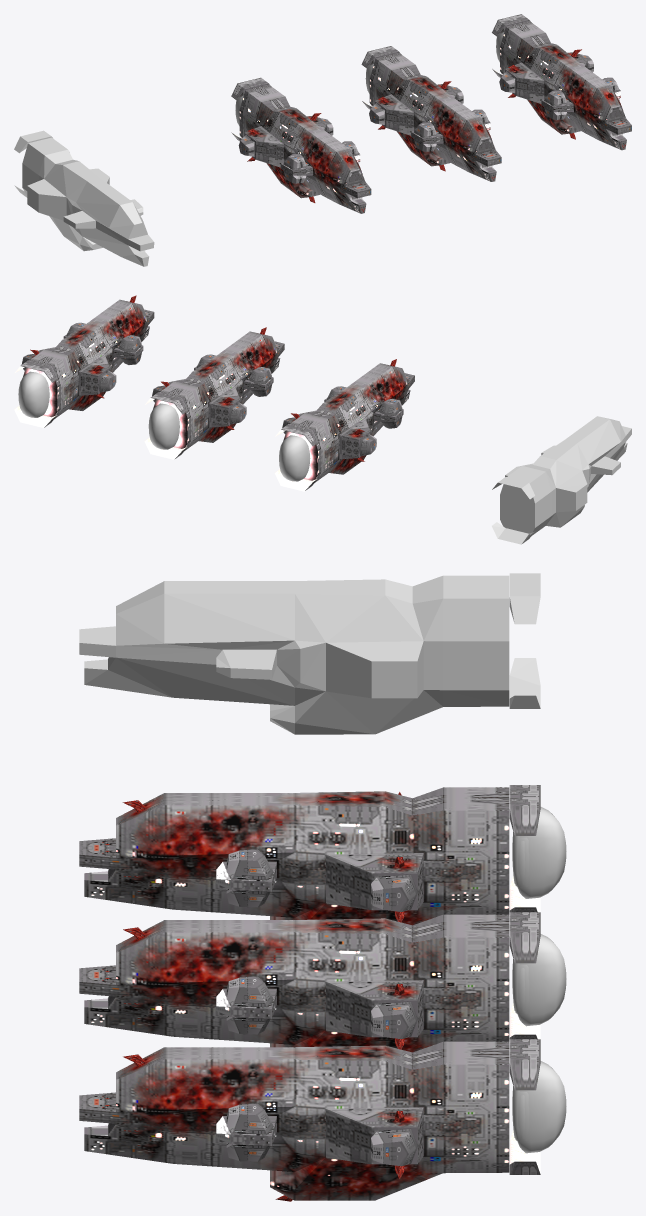
Rendered from hgn_bst_tdn_heavycruiser.dae.
The picture shows the model from 3 angles, top to bottom: view 1: azimuth 30°, elevation 25°; view 2: azimuth 150°, elevation 25°; view 3: azimuth 270°, elevation 25°; orthographic projection. The views are drawn at different scales.
Parts seen in each view (by area): view 1: COL[Root], MULT[root_mesh]_LOD[0], MULT[root_mesh]_LOD[1], MULT[root_mesh]_LOD[2]; view 2: COL[Root], MULT[root_mesh]_LOD[2], MULT[root_mesh]_LOD[1], MULT[root_mesh]_LOD[0], GLOW[EngineGlow3_LOD0]_LOD[0], GLOW[EngineGlow9_LOD0]_LOD[2], GLOW[EngineGlow6_LOD0]_LOD[1]; view 3: COL[Root], MULT[root_mesh]_LOD[2], MULT[root_mesh]_LOD[1], MULT[root_mesh]_LOD[0], GLOW[EngineGlow3_LOD0]_LOD[0], GLOW[EngineGlow9_LOD0]_LOD[2], GLOW[EngineGlow6_LOD0]_LOD[1], MULT[rightturret3]_LOD[1], MULT[rightturret3]_LOD[0], MULT[rightturret3]_LOD[2], MULT[rightturret1]_LOD[1], MULT[rightturret1]_LOD[2] (+1 smaller).
Part boxes in pixels (x1,y1,x2,y2): COL[Root]: (14, 130, 154, 266); MULT[root_mesh]_LOD[0]: (231, 77, 371, 213); MULT[root_mesh]_LOD[1]: (361, 46, 501, 181); MULT[root_mesh]_LOD[2]: (492, 14, 631, 150); COL[Root]: (492, 416, 631, 544); MULT[root_mesh]_LOD[2]: (14, 299, 154, 427); MULT[root_mesh]_LOD[1]: (144, 331, 284, 459); MULT[root_mesh]_LOD[0]: (274, 363, 414, 491); GLOW[EngineGlow3_LOD0]_LOD[0]: (279, 435, 308, 481); GLOW[EngineGlow9_LOD0]_LOD[2]: (18, 371, 47, 417); GLOW[EngineGlow6_LOD0]_LOD[1]: (148, 403, 178, 449); COL[Root]: (79, 573, 540, 734); MULT[root_mesh]_LOD[2]: (79, 1039, 540, 1200); MULT[root_mesh]_LOD[1]: (79, 912, 540, 1052); MULT[root_mesh]_LOD[0]: (79, 785, 540, 925); GLOW[EngineGlow3_LOD0]_LOD[0]: (515, 807, 566, 898); GLOW[EngineGlow9_LOD0]_LOD[2]: (515, 1061, 566, 1153); GLOW[EngineGlow6_LOD0]_LOD[1]: (515, 934, 566, 1026); MULT[rightturret3]_LOD[1]: (371, 1001, 417, 1039); MULT[rightturret3]_LOD[0]: (371, 874, 417, 911); MULT[rightturret3]_LOD[2]: (371, 1128, 417, 1166); MULT[rightturret1]_LOD[1]: (226, 976, 273, 1007); MULT[rightturret1]_LOD[2]: (226, 1103, 273, 1134).
Size of the model in its own units: 1569 by 201 by 594.
